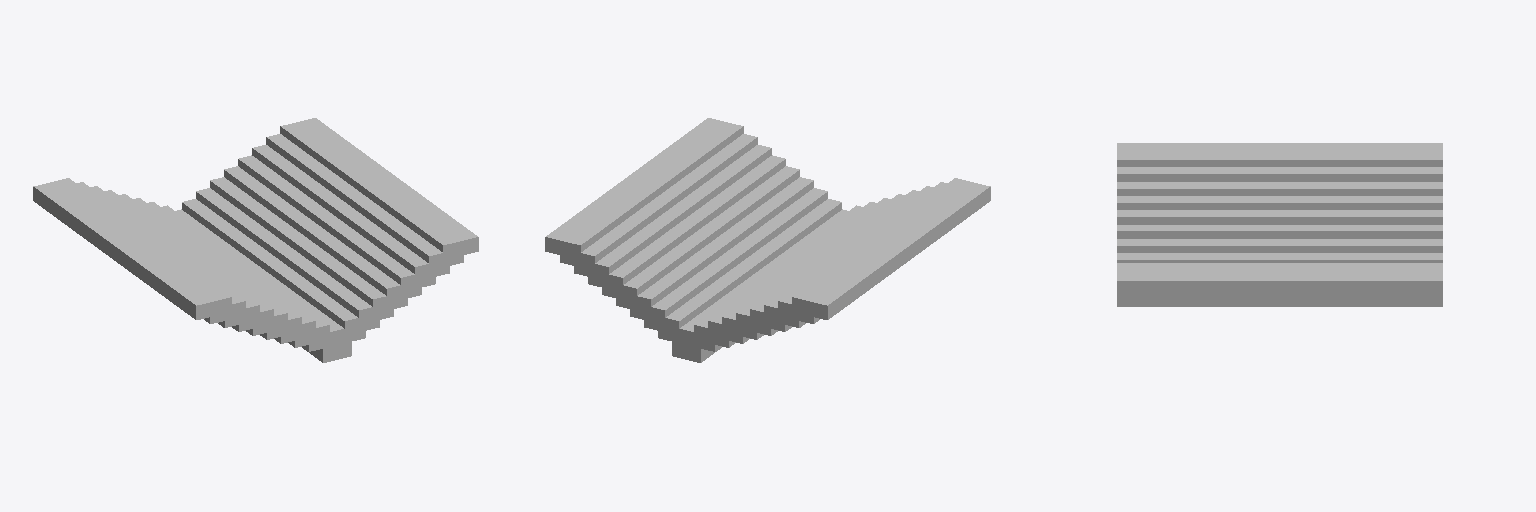
File: book.obj
3 renders of one model, left to right at view 1: azimuth 30°, elevation 25°; view 2: azimuth 150°, elevation 25°; view 3: azimuth 270°, elevation 25°, orthographic.
Parts seen in each view (by area): view 1: object 1; view 2: object 1; view 3: object 1.
Boxes of the visible parts, x1=… form: object 1: x1=33, y1=118, x2=478, y2=362; object 1: x1=545, y1=118, x2=990, y2=362; object 1: x1=1117, y1=143, x2=1442, y2=306.
Size of the model in its own units: 4 by 1.2 by 4.